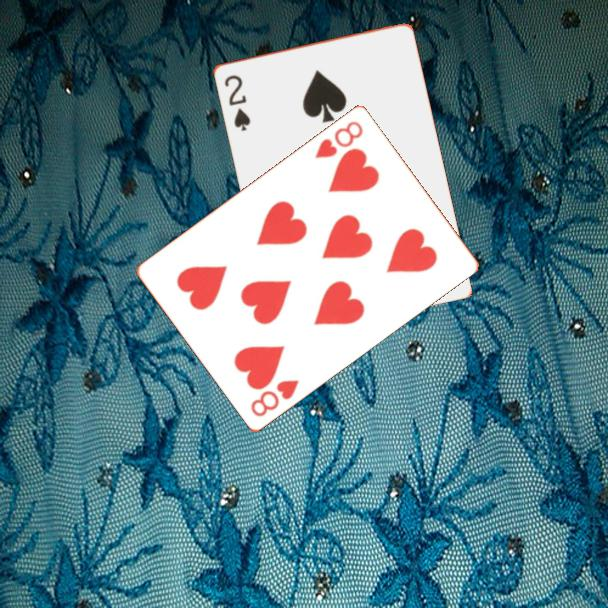h08: (311, 117, 366, 161), (247, 376, 302, 419)
s02: (221, 71, 253, 134)
